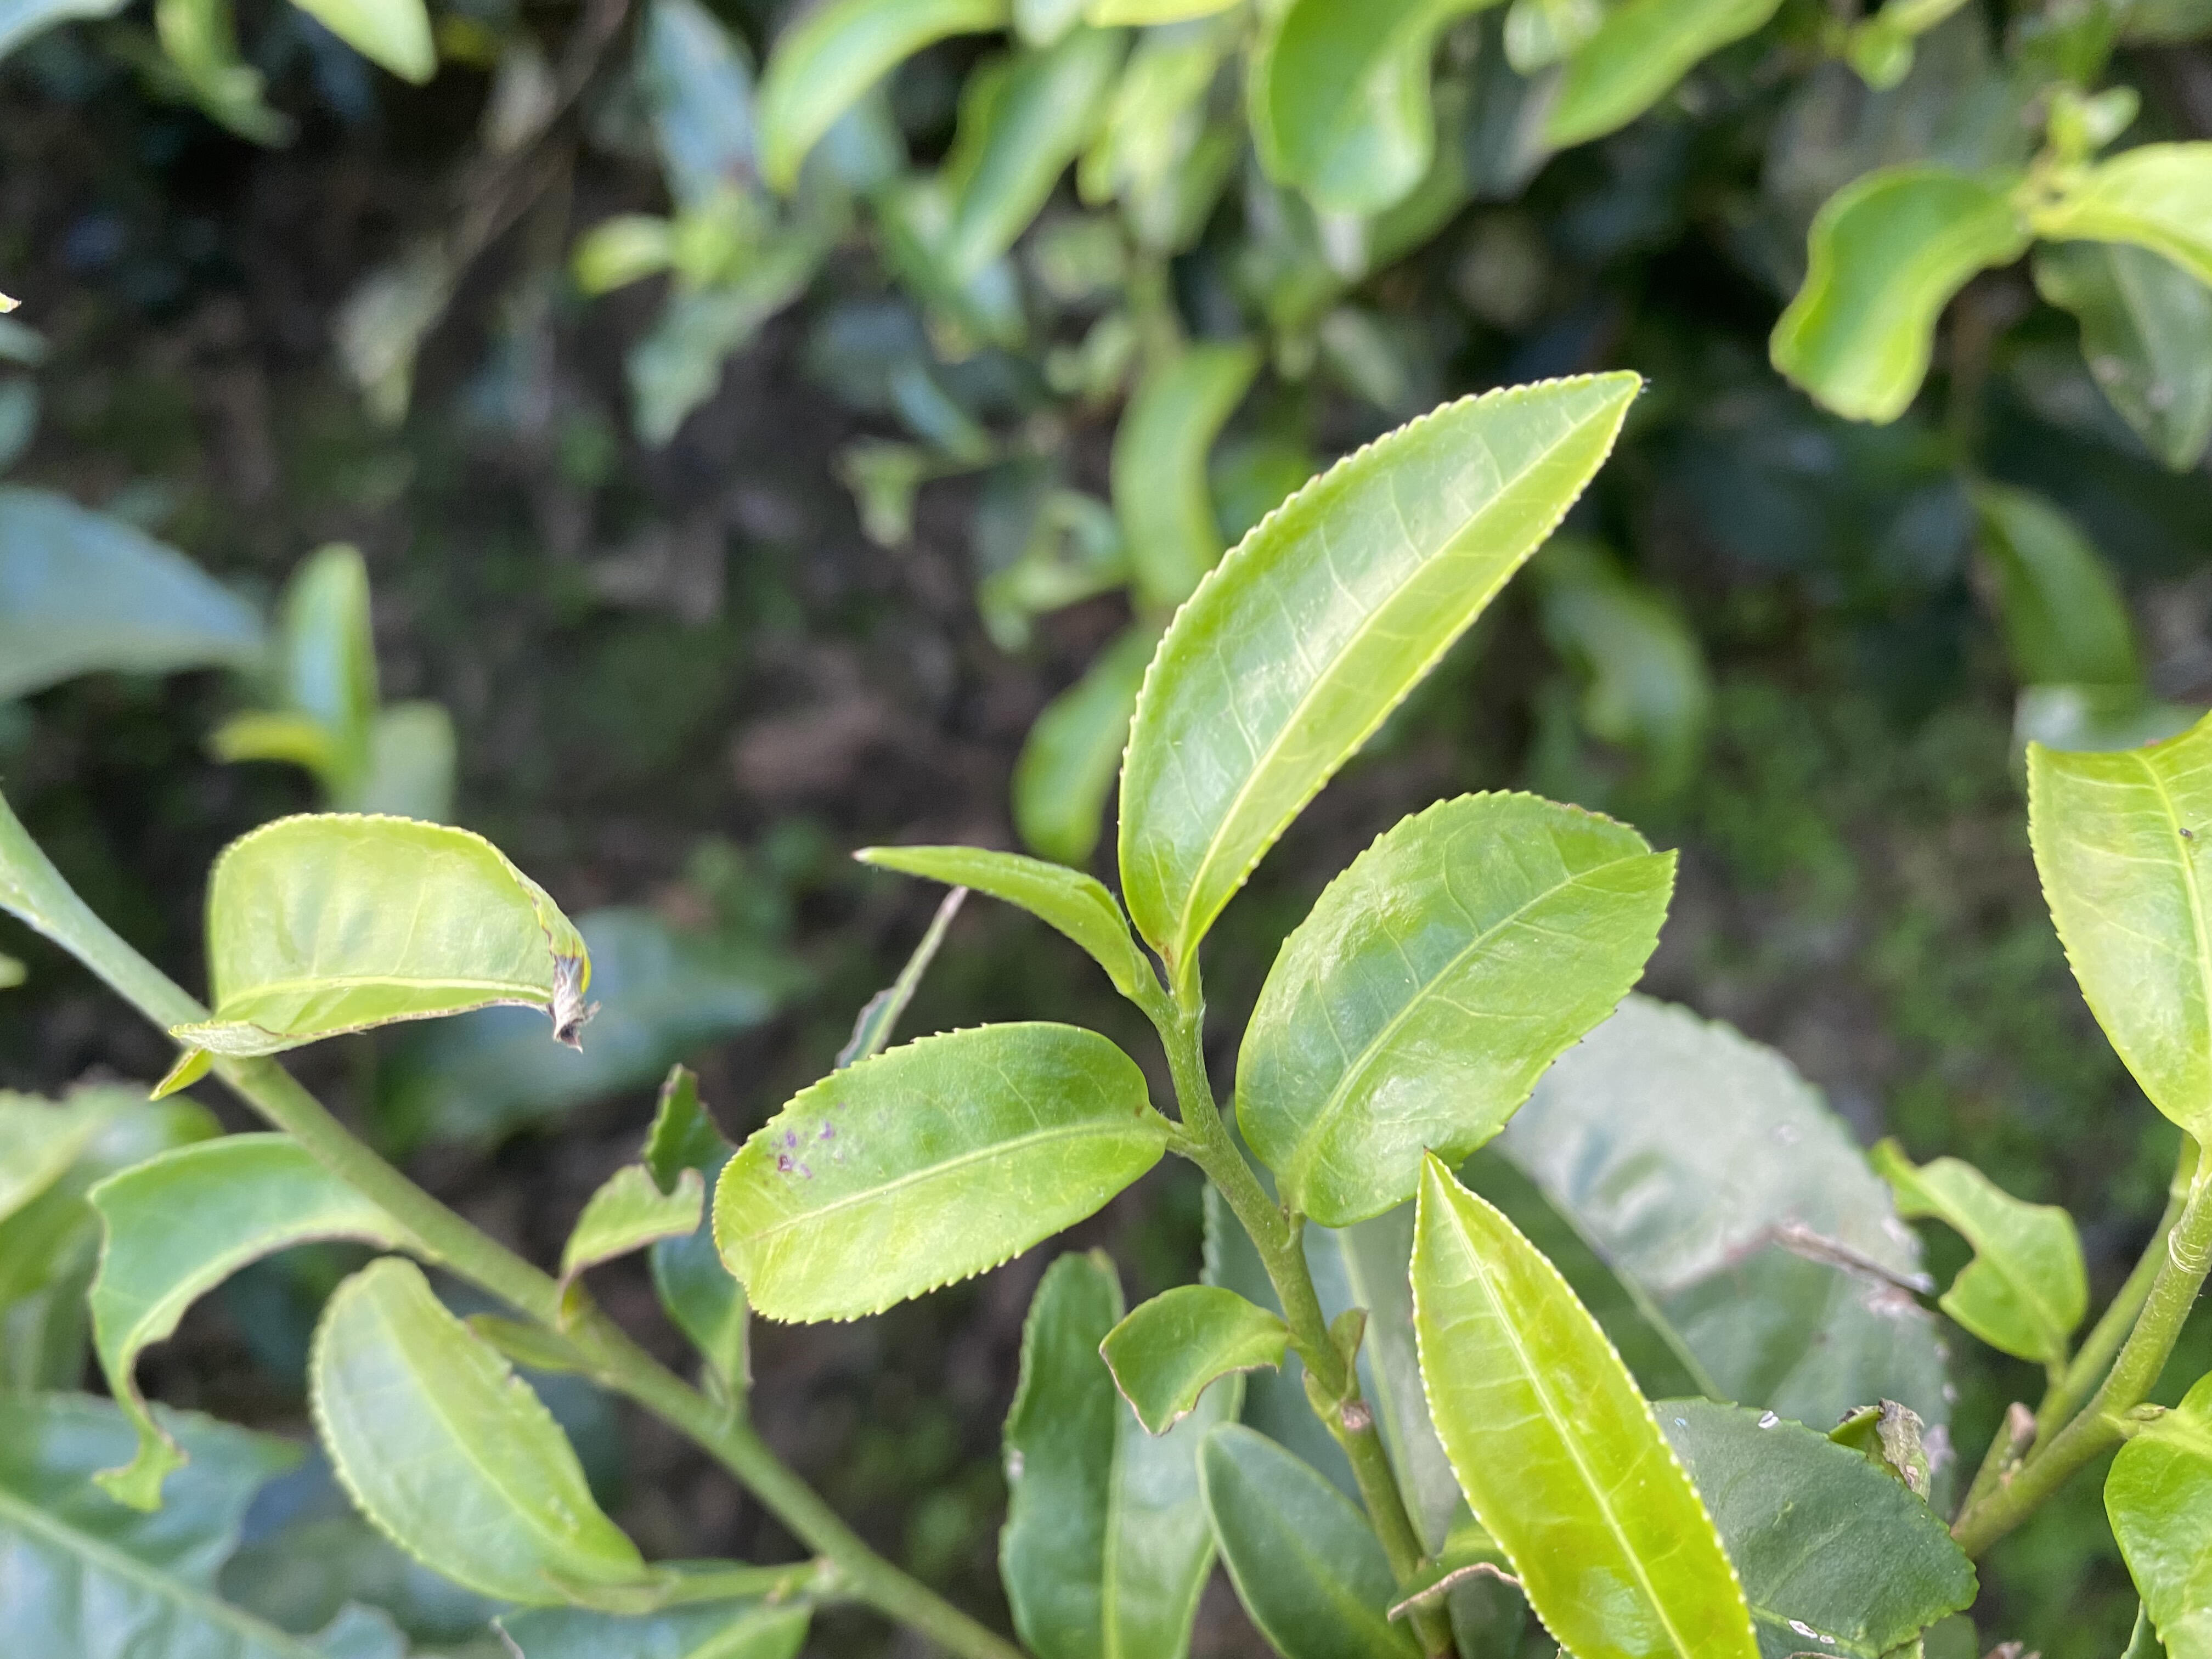chihuo_high: (639, 878, 975, 1401), (77, 1129, 444, 1506), (1099, 1286, 1287, 1441), (547, 1159, 702, 1330)
healthy: (1113, 369, 1646, 979), (1230, 793, 1679, 1236), (1404, 1141, 1773, 1659)
tanju_high: (167, 810, 601, 1060)
tanju_low: (709, 1021, 1155, 1331)
